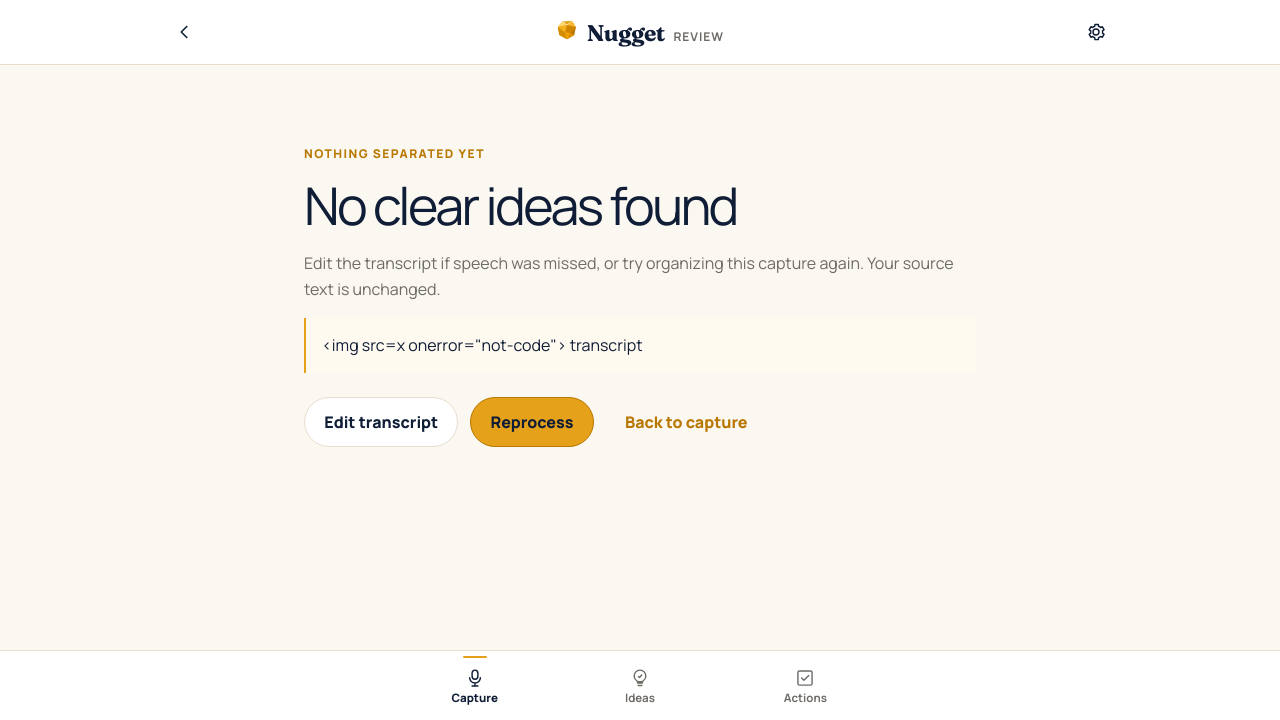
Test: ReviewScreen multi-idea confirmation › keeps untrusted transcript content as text when reprocessing fails
The image size is (1280, 720).
Expected: the heading "No clear ideas found" is shown, [304, 170, 737, 241]
Click the button "Reprocess" at (532, 422), box [470, 397, 594, 447]
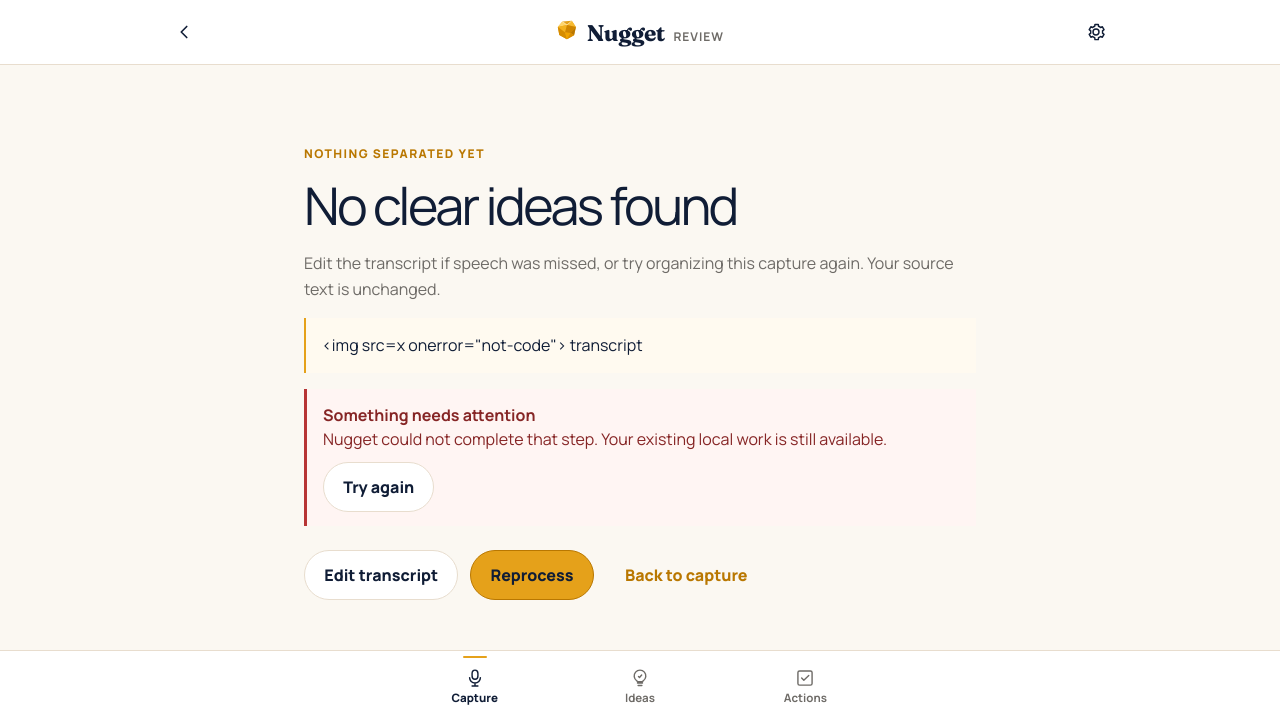
Expected: the message does not show "organization failed", [304, 389, 976, 526]
Result: the message shows "Something needs attention" at [323, 404, 536, 426]
